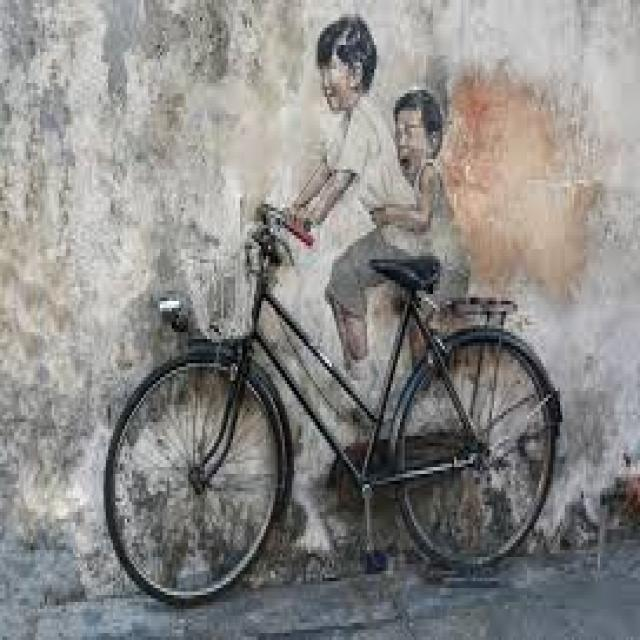-: (271, 17, 476, 406)
